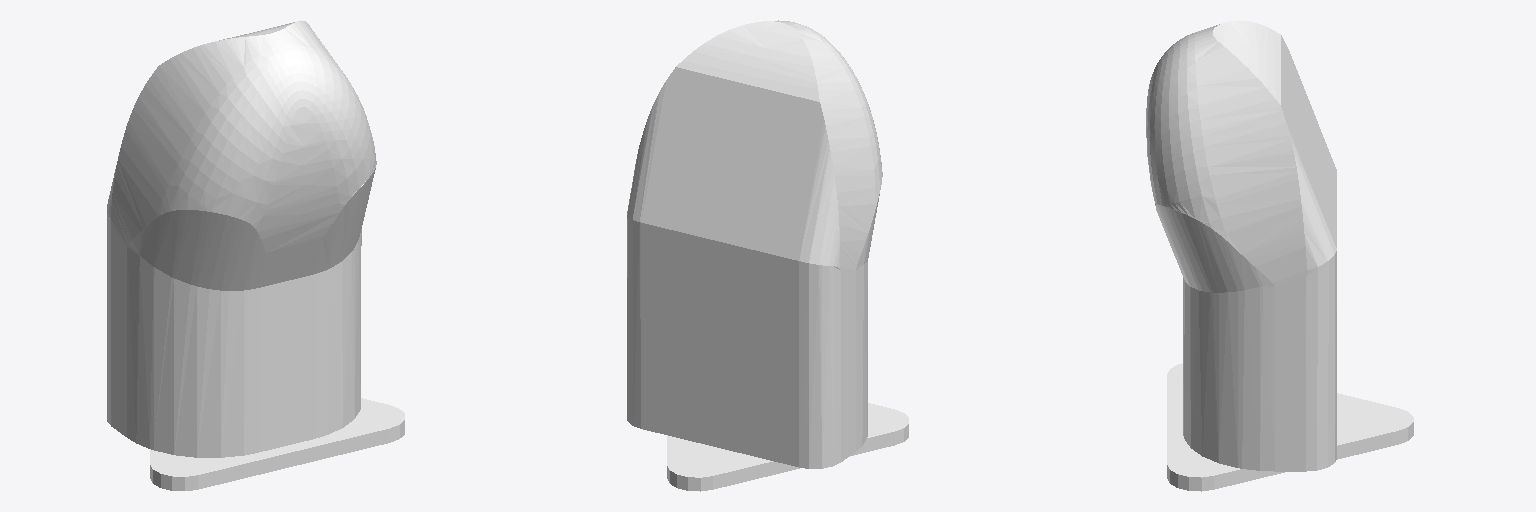
The robot description file, URDF, robot "fingertip.urdf":
<robot name="fingertip.urdf">
  <link name="baseLink">
    <contact>
      <lateral_friction value="0.5"/>
      <rolling_friction value="0.001"/>
      <spinning_friction value="0.001"/>
      <contact_cfm value="0.0"/>
      <contact_erp value="1.0"/>
    </contact>
    <inertial>
       <origin rpy="0 0 0" xyz="0 0.0 0.0"/>
       <mass value="0.01"/>
       <inertia ixx="1e-3" ixy="0" ixz="0" iyy="1e-3" iyz="0" izz="1e-3"/>
    </inertial>
    <visual>
      <geometry>
        <mesh filename="finger-tip-3.STL" scale="0.001 0.001 0.001"/>
      </geometry>
      <material name="white">
        <color rgba="1 1 1 1"/>
      </material>
    </visual>
    <collision>
      <geometry>
    	 	<mesh filename="finger-tip-sim.STL" scale="0.001 0.001 0.001"/>
      </geometry>
    </collision>
  </link>
</robot>

--- What the picture shows (computed from the rendered views, not written in the file) ---
Views: 3 orthographic renders of the robot side by side, from view 1: azimuth 30°, elevation 25°; view 2: azimuth 150°, elevation 25°; view 3: azimuth 270°, elevation 25°.
Model fingertip.urdf with 1 links and 0 joints (none), rooted at baseLink, posed every joint at zero.
Visible links, largest first — view 1: baseLink; view 2: baseLink; view 3: baseLink.
Boxes of the visible links, x1,y1,x2,y2 form: baseLink: (107,20,404,490); baseLink: (627,20,908,491); baseLink: (1146,20,1413,491).
Bounding box of the posed robot: 0.0178 × 0.0173 × 0.0287 m (x, y, z).
1 mesh visuals loaded from 1 distinct referenced files (1 binary STL).